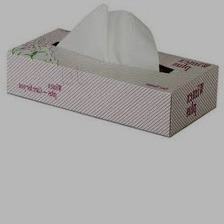book: (0, 23, 224, 141)
tissue: (51, 0, 171, 77)
